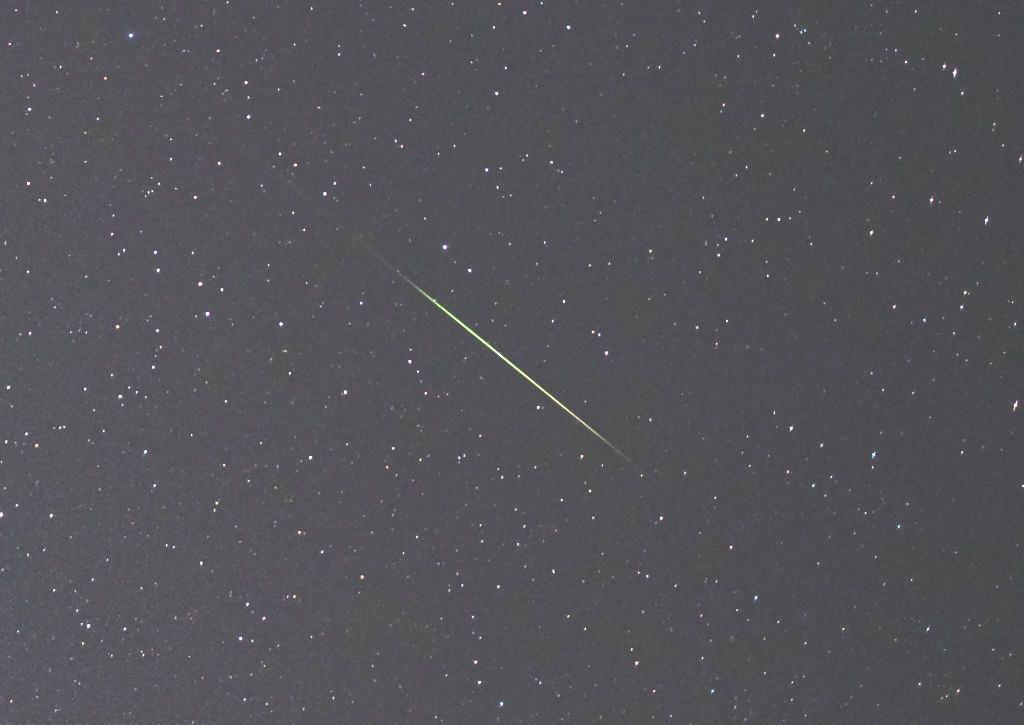meteorite: (383, 212, 648, 461)
